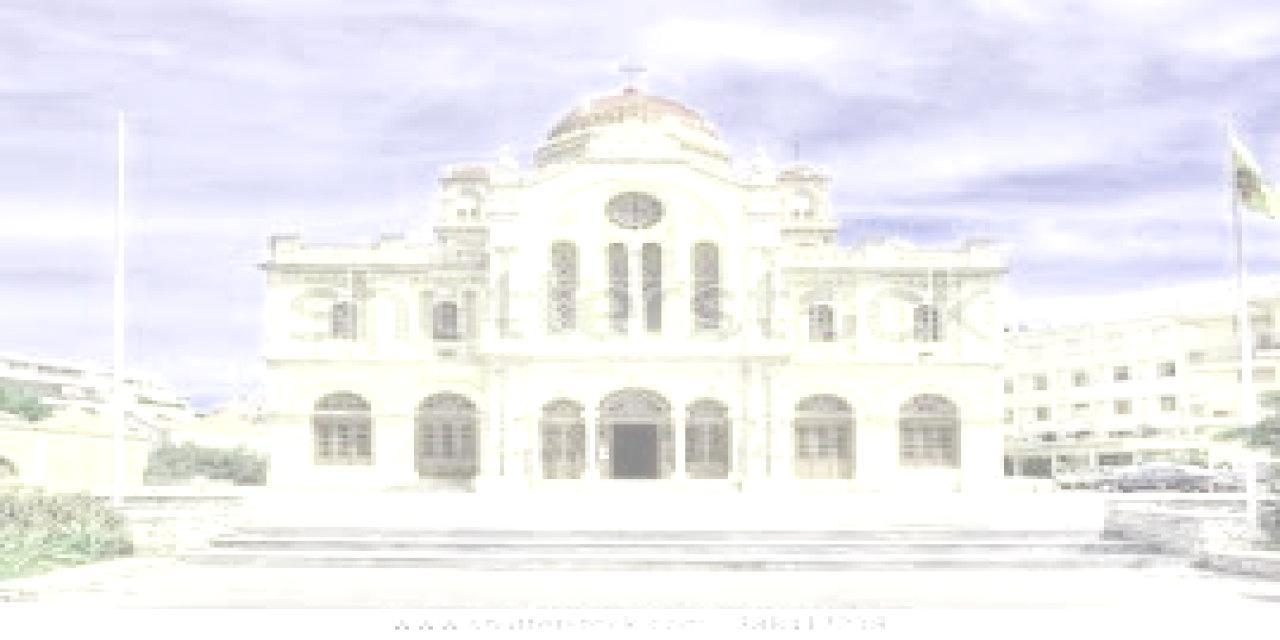Agios Minas: (243, 40, 1019, 498)
